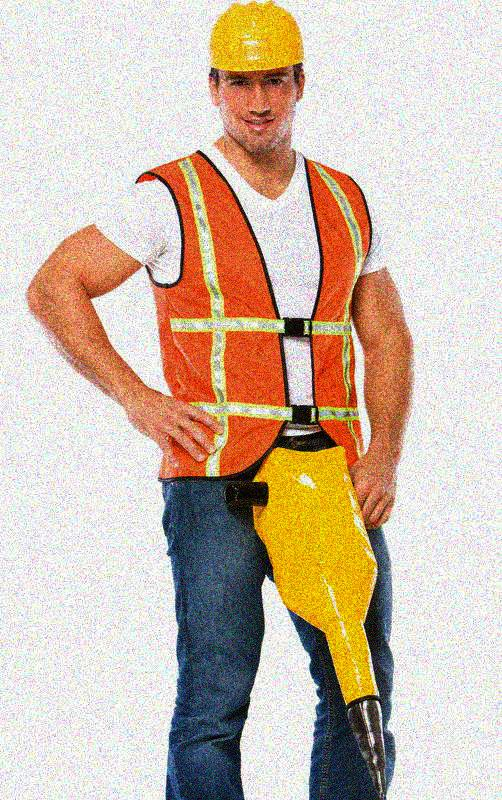helmet: (205, 1, 310, 159)
